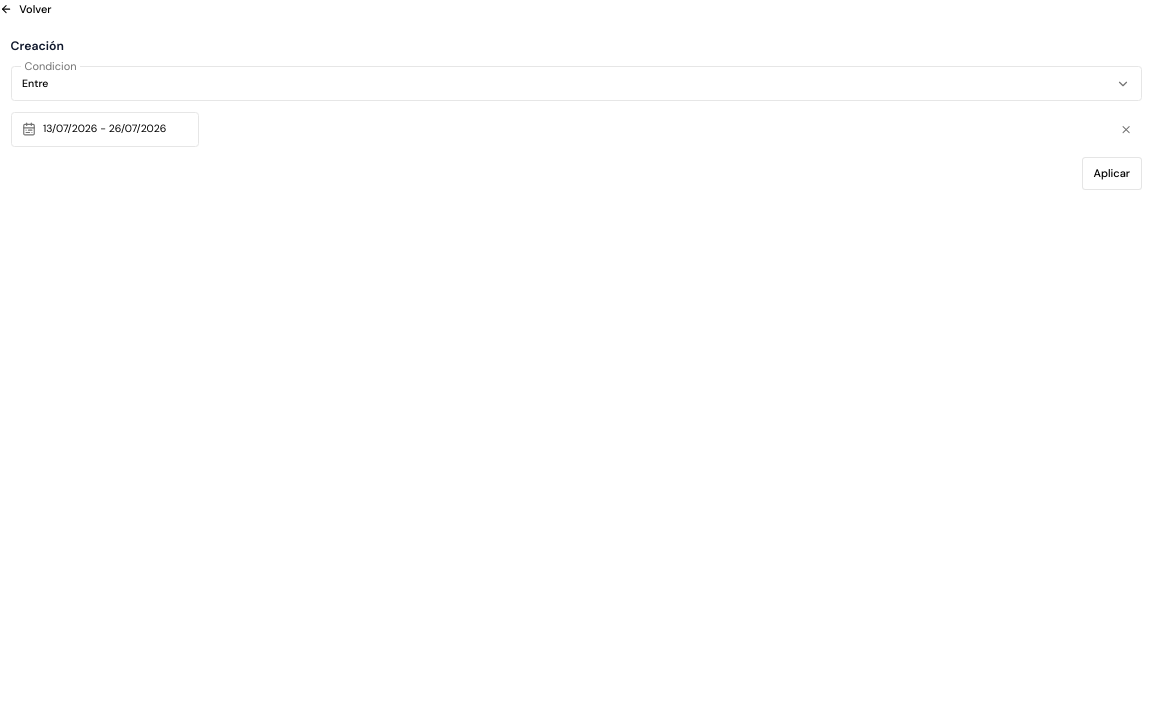
Test: SmartSearchActiveField calendar periods › uses the animated date range picker for between date filters
Click the button named "Rango". click: (105, 129)
box: [10, 112, 199, 147]
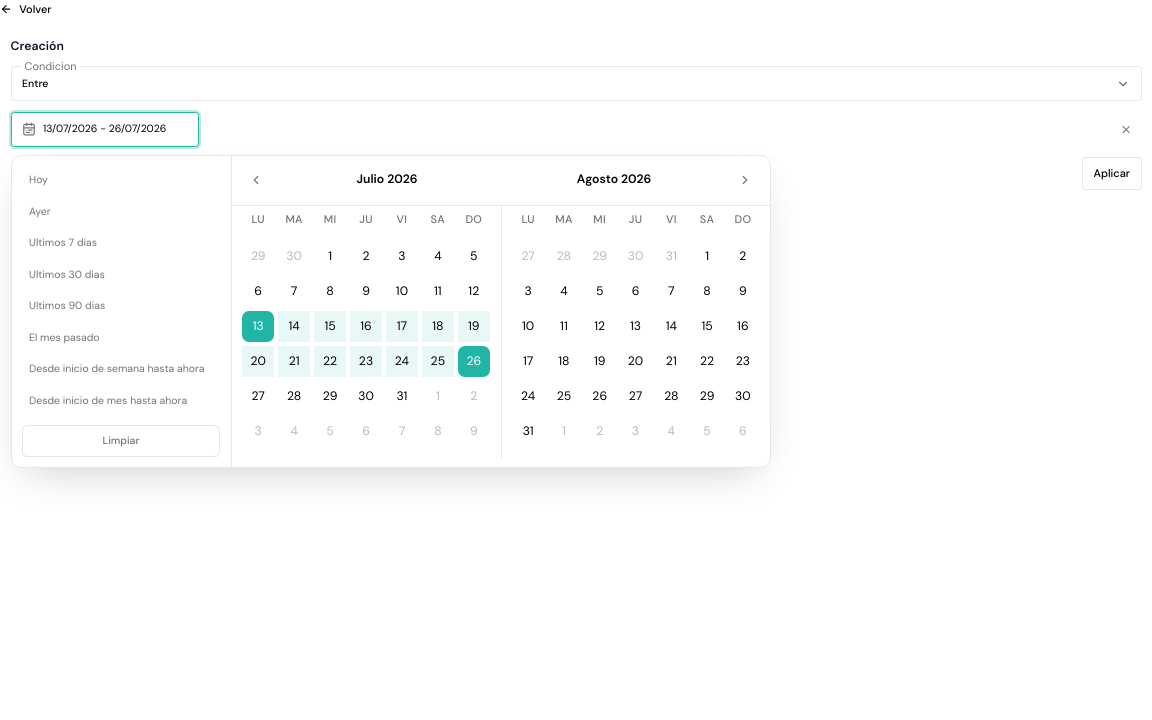
Now the dialog named "Rango: rango de fechas" is shown, box [10, 155, 770, 468]
